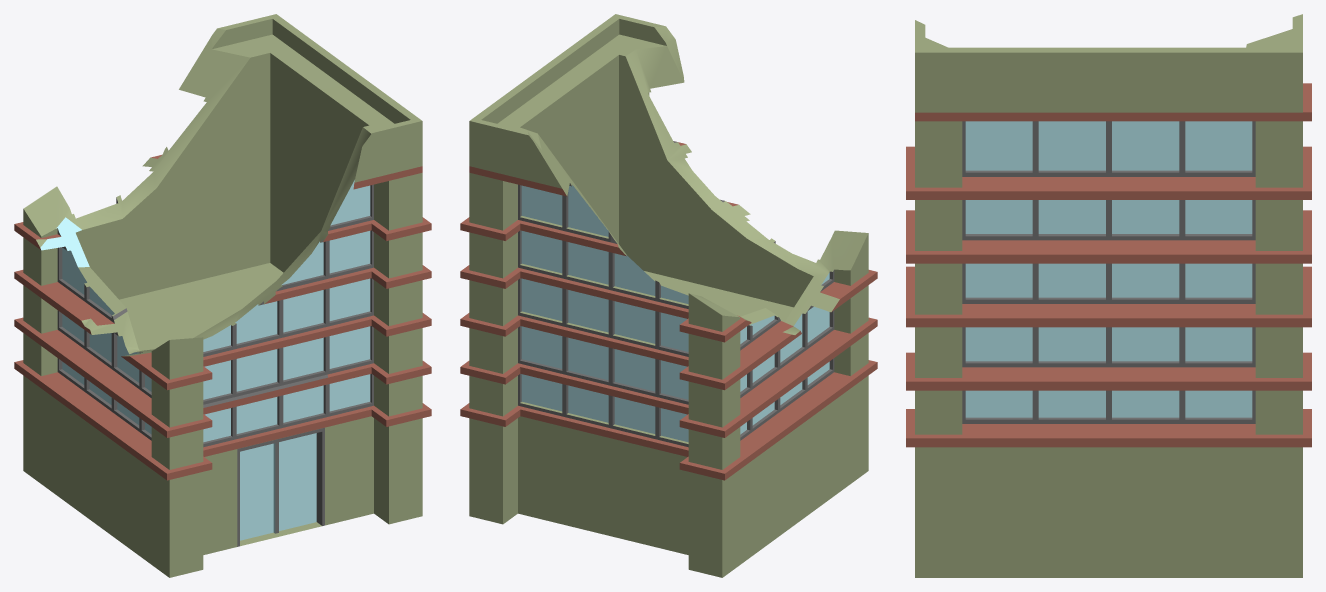
3 views of the same model, side by side, from view 1: azimuth 30°, elevation 25°; view 2: azimuth 150°, elevation 25°; view 3: azimuth 270°, elevation 25° (orthographic). The views are drawn at different scales.
Visible parts, largest first — view 1: Cube.019; view 2: Cube.019; view 3: Cube.019.
Boxes of the visible parts, x1,y1,x2,y2 form: Cube.019: [14, 14, 431, 577]; Cube.019: [460, 14, 877, 577]; Cube.019: [906, 14, 1311, 577].
Bounding box in the file's own units: 209 × 209 × 299.
